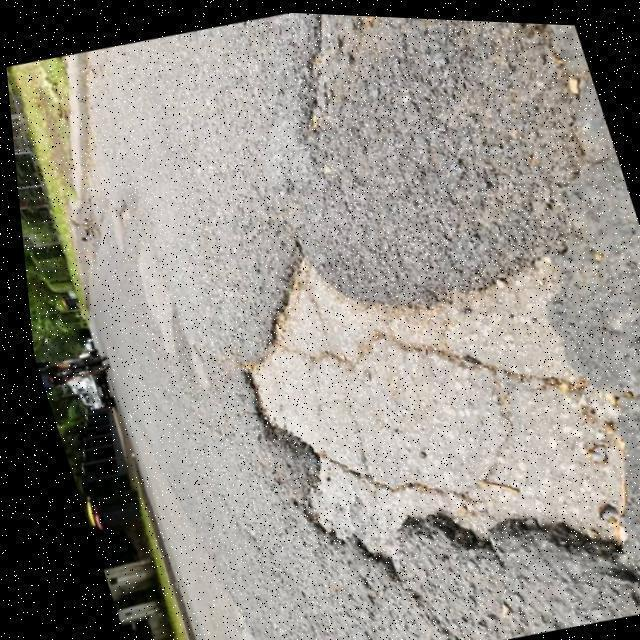Pothole: (232, 234, 632, 579)
